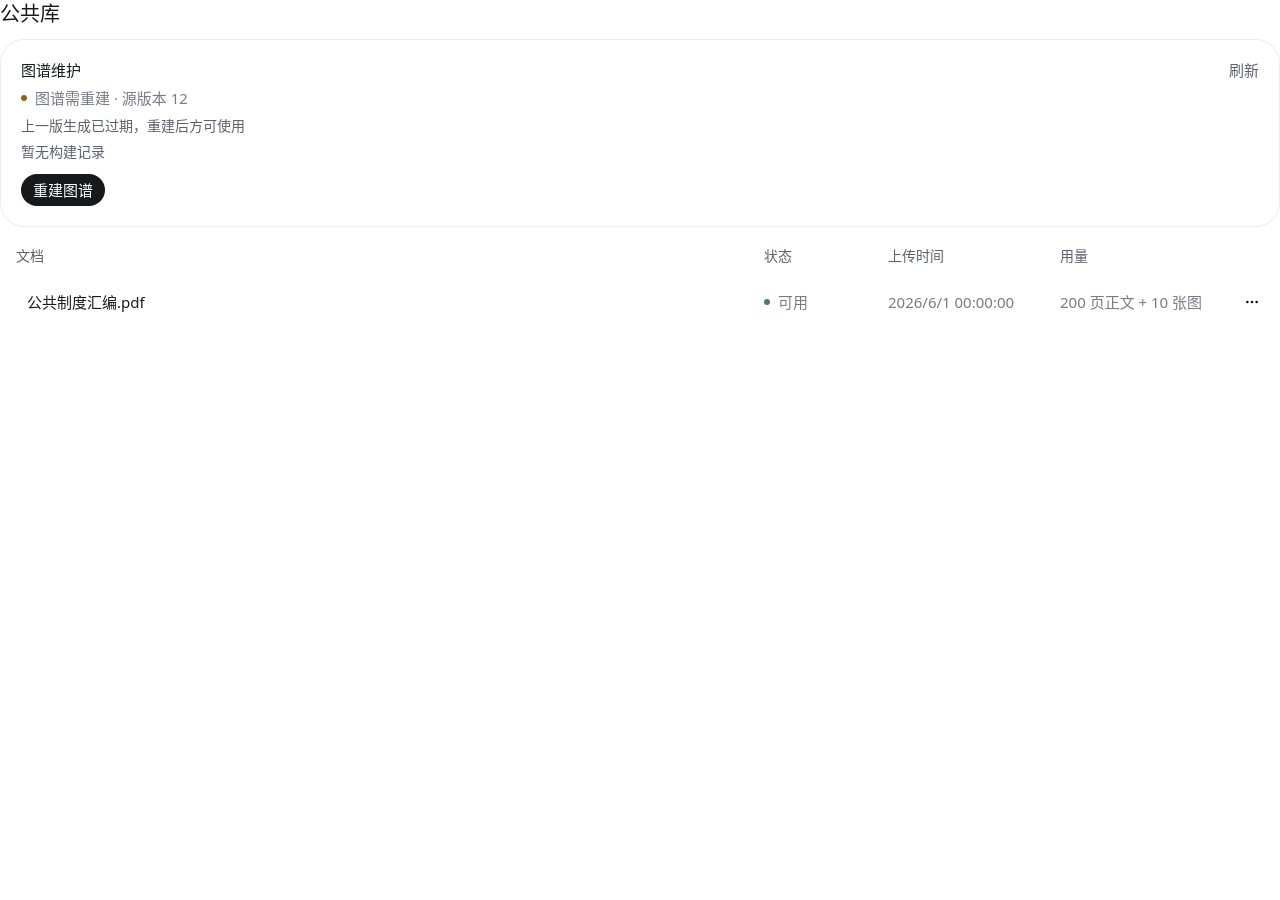
图谱维护区（§6.12，ops） › 409 graph_build_in_progress：关框 + 错误行 + 状态刷新
What coordinates should you click on to do the following:
click the button "重建图谱"
I would click on:
 (63, 190)
Its box is [21,174,105,206].
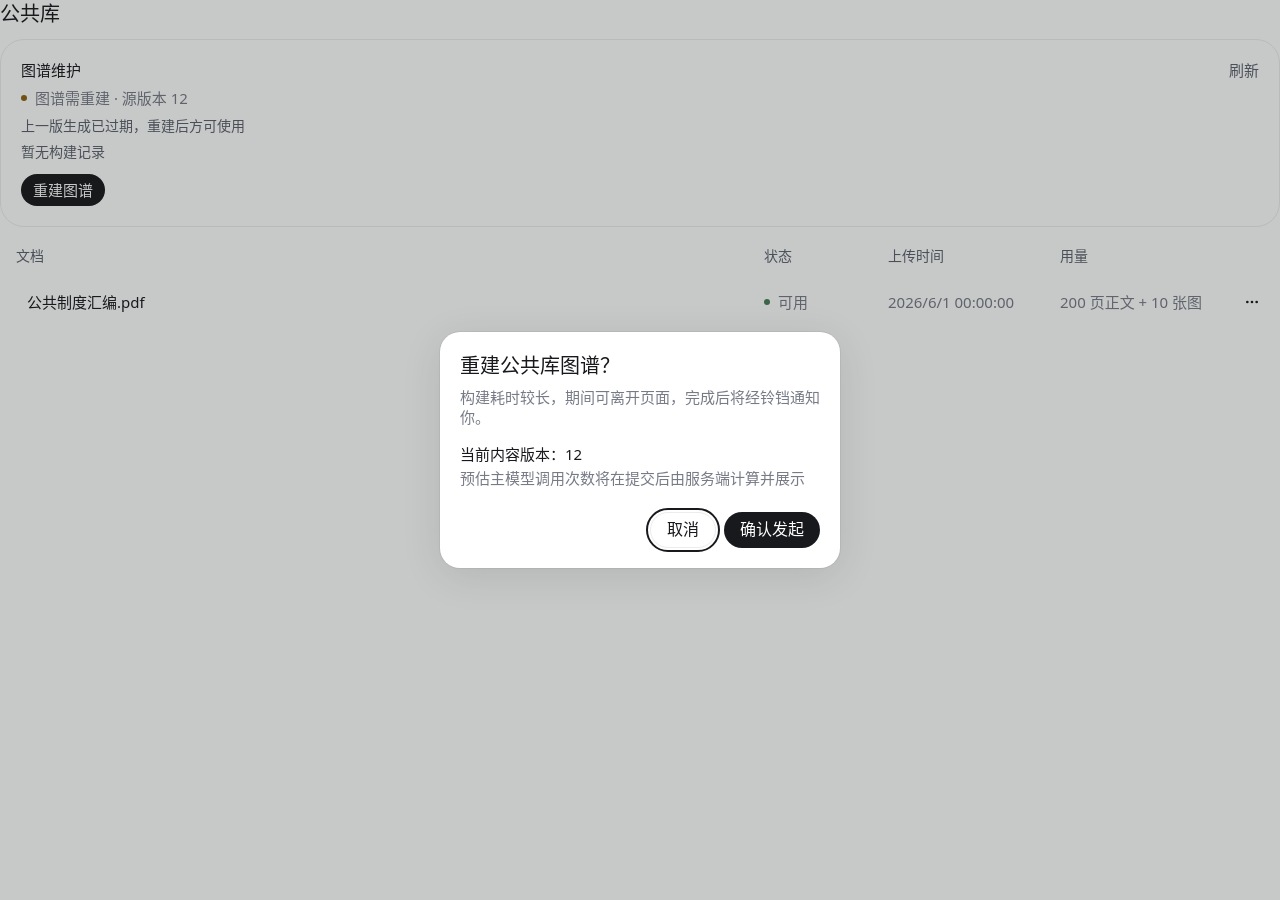
What coordinates should you click on to do the following:
click the button "确认发起"
I would click on:
 (772, 530)
Its box is [724,512,820,548].
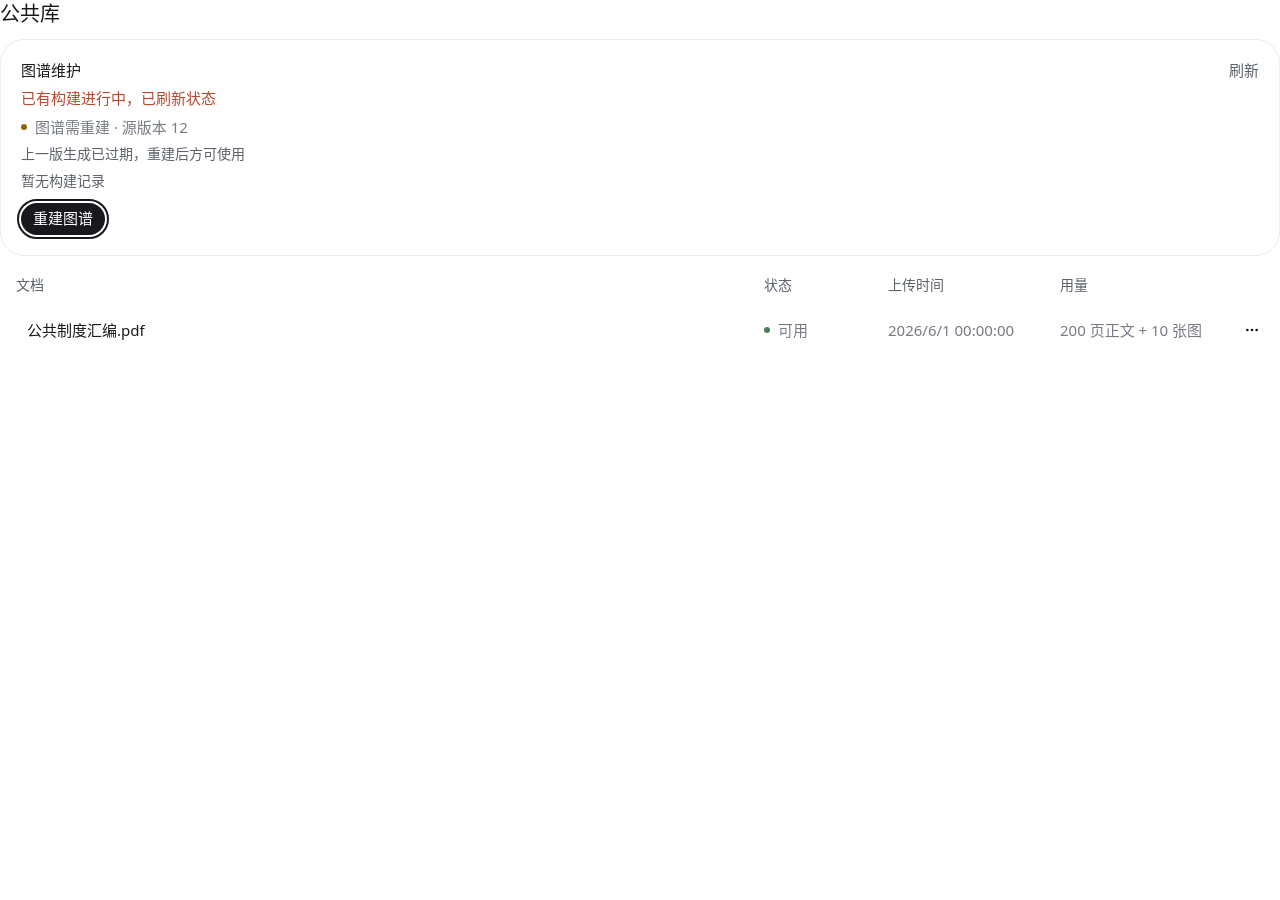
expect the text "已有构建进行中，已刷新状态" is shown: met, box [21,88,216,109]
expect the dialog is gone: met
